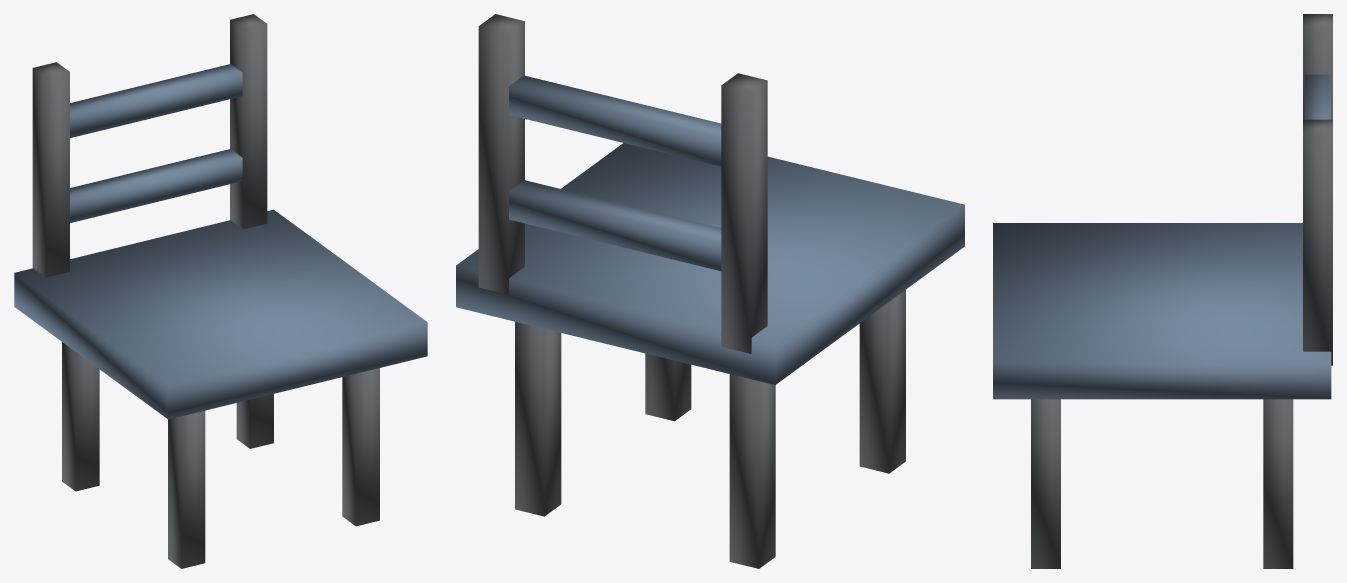
File: courtroom_spectator_chair__squat.glb
The picture shows the model from 3 angles, left to right: view 1: azimuth 30°, elevation 25°; view 2: azimuth 150°, elevation 25°; view 3: azimuth 270°, elevation 25°; orthographic projection. The views are drawn at different scales.
Visible parts, largest first — view 1: world; view 2: world; view 3: world.
Part boxes in pixels (<box>): world: <box>14,14,427,568</box>; world: <box>456,14,964,568</box>; world: <box>993,14,1332,568</box>.
Size of the model in its own units: 0.5368 by 0.7972 by 0.5547.
